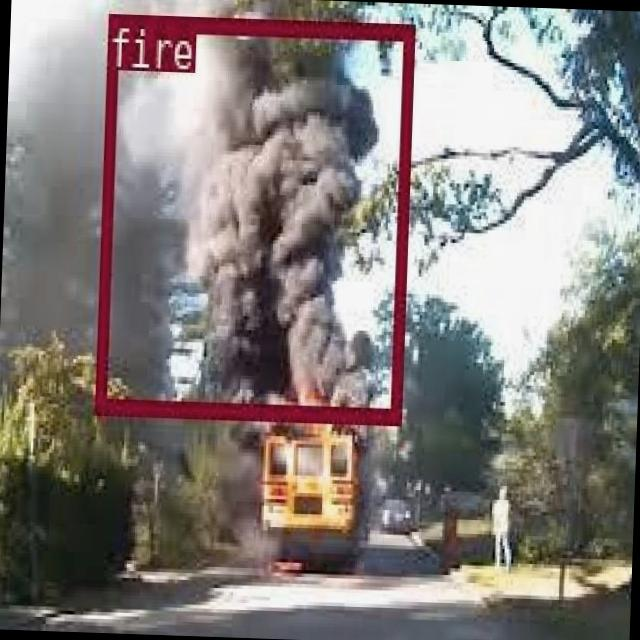fire: (92, 12, 411, 421)
